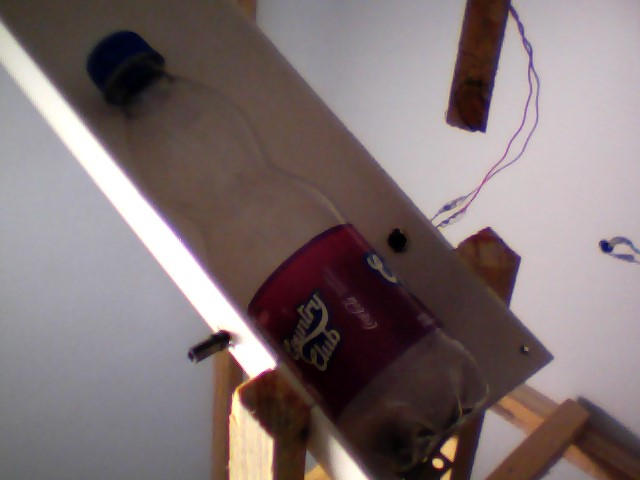plastico: (76, 26, 493, 478)
